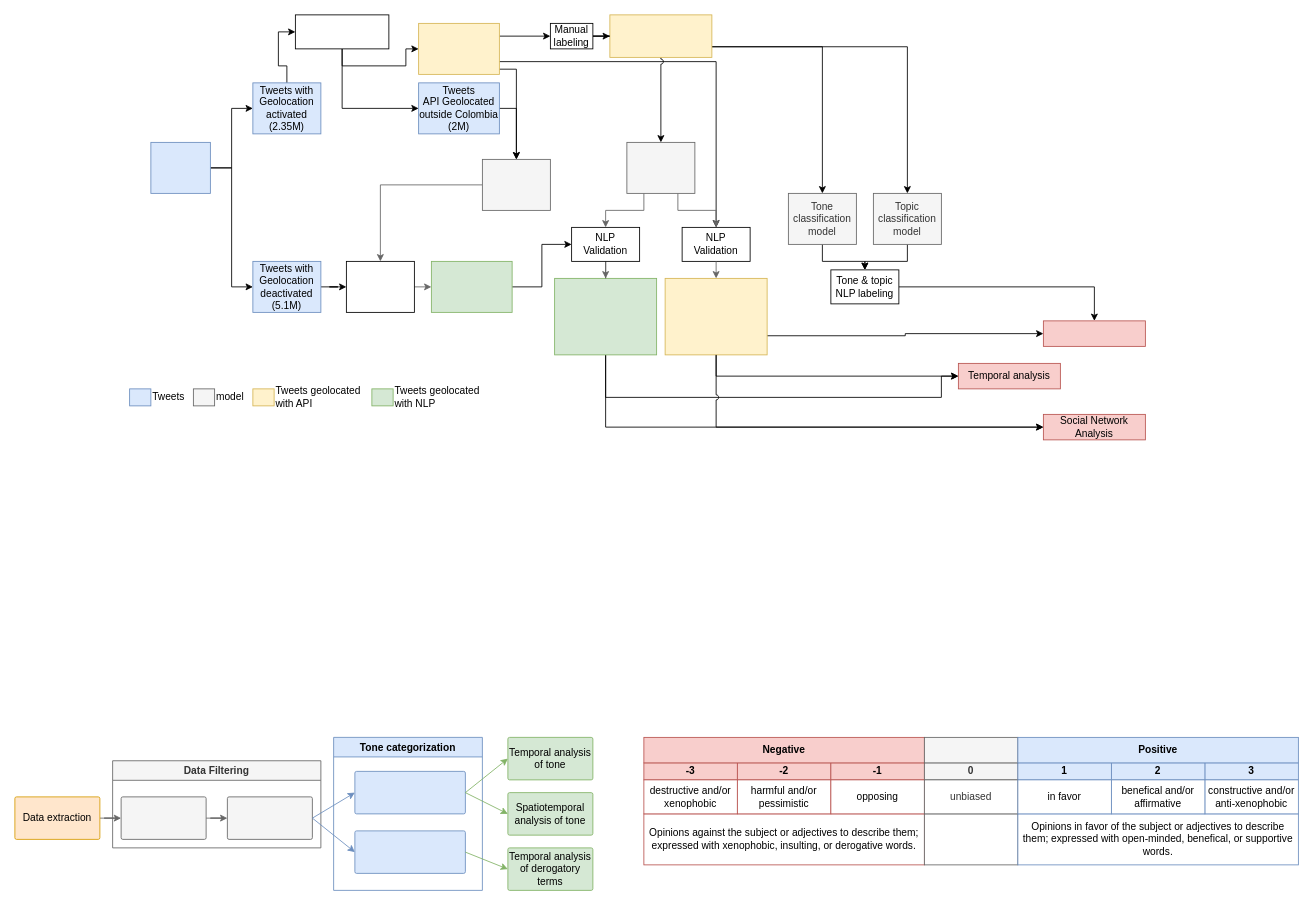
The diagram is 1313 pixels wide and 905 high, and some of its shapes have lost their labels. The centre of each missing label's shape, as x and y in pixels:
"Extracted tweets (7.4M)" goes at (x=180, y=167).
"Geolocalization" goes at (x=163, y=817).
"Geolocalization with Nominatim API" goes at (x=342, y=31).
"Manual annotation of derogatory terms' tone" goes at (x=409, y=851).
"Neutral" goes at (x=971, y=750).
"NLP Geolocation" goes at (x=380, y=286).
"No opinion expressed" goes at (x=971, y=839).
"Semi-supervised labeling of tone" goes at (x=409, y=792).
"Spatio-temporal analysis" goes at (x=1094, y=333).
"Text geolocation model" goes at (x=516, y=184).
"Tweets API Geolocated from Colombia (350K)" goes at (x=458, y=48).
"Tweets NLP Geolocated from Colombia (1.65M)" goes at (x=471, y=286).
"Tweets NLP-validated API Geolocated About migration (200K)" goes at (x=715, y=316).
"Tweets NLP-validated NLP Geolocated About migration (1.45M)" goes at (x=605, y=316).
"Tweets sample Manually labeled (5K)" goes at (x=660, y=35).
"Validation" goes at (x=269, y=817).
"Validation model" goes at (x=660, y=167).
